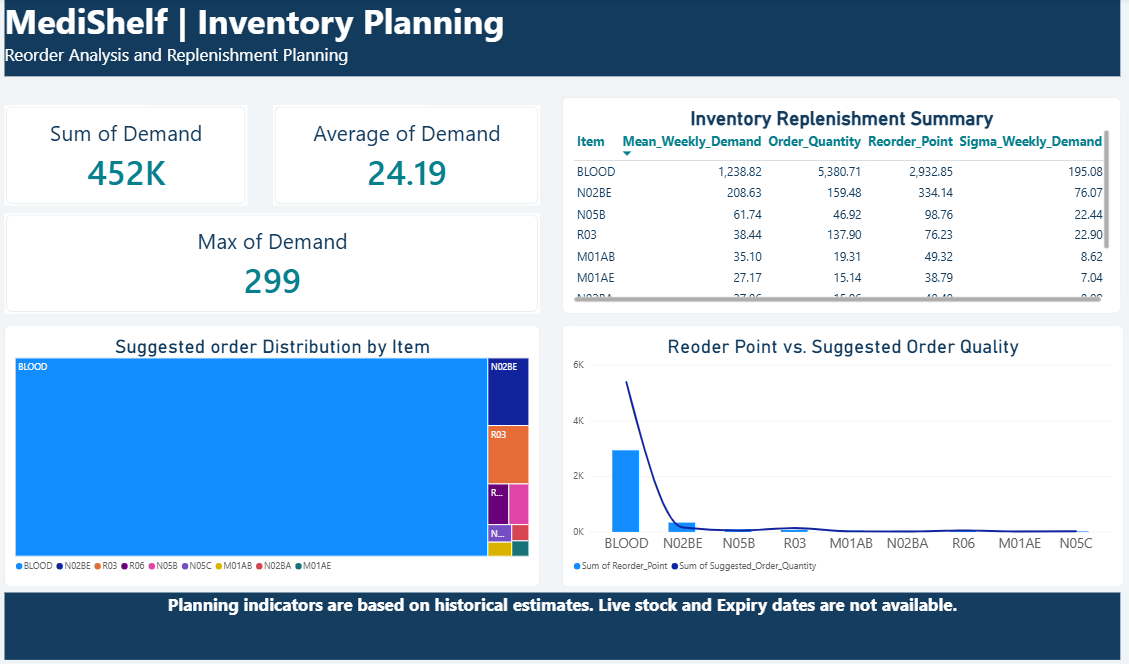

Layout of this report page (visuals, bound fields, positions):
{"tool":"powerbi","page":{"name":"Inventory","canvas":[1920,1080],"ordinal":2},"visuals":[{"type":"tableEx","title":"Inventory Replenishment Summary","fields":{"Values":["Fact_StockDecision.Item","Sum(Fact_StockDecision.Mean_Weekly_Demand)","Sum(Fact_StockDecision.Suggested_Order_Quantity)","Sum(Fact_StockDecision.Reorder_Point)","Fact_StockDecision.Sigma_Weekly_Demand"]},"box":[944.8,157.1,872.1,337.6],"z":0},{"type":"lineClusteredColumnComboChart","title":"Reoder Point vs. Suggested Order Quality","fields":{"Category":["Fact_StockDecision.Item"],"Y":["Sum(Fact_StockDecision.Reorder_Point)"],"Y2":["Sum(Fact_StockDecision.Suggested_Order_Quantity)"]},"box":[944.8,513.4,876.8,407.9],"z":1000},{"type":"treemap","title":"Suggested order Distribution by Item","fields":{"Group":["Fact_StockDecision.Item"],"Values":["Sum(Fact_StockDecision.Suggested_Order_Quantity)"]},"box":[72.7,513.4,837,407.9],"z":2000},{"type":"textbox","box":[72.7,0,1744.3,124.3],"z":3000},{"type":"cardVisual","fields":{"Data":["Sum(Fact_Demand.Demand)"]},"box":[72.7,168.8,379.8,157.1],"z":4000},{"type":"cardVisual","fields":{"Data":["Avg(Fact_Demand.Demand)"]},"box":[492.3,168.8,417.3,157.1],"z":4001},{"type":"cardVisual","fields":{"Data":["Max(Fact_Demand.Demand)"]},"box":[72.7,337.6,837,157.1],"z":4002},{"type":"textbox","box":[72.7,930.8,1744.3,105.5],"z":4003}]}

Visuals, with their boxes on the page's 1920x1080 design canvas (x1, y1, x2, y2). These are canvas units, not pixel positions in the 1129x664 screenshot, which may show the page scaled, cropped or inside an application window:
"Inventory Replenishment Summary" tableEx: {"x1": 945, "y1": 157, "x2": 1817, "y2": 495}
"Reoder Point vs. Suggested Order Quality" lineClusteredColumnComboChart: {"x1": 945, "y1": 513, "x2": 1822, "y2": 921}
"Suggested order Distribution by Item" treemap: {"x1": 73, "y1": 513, "x2": 910, "y2": 921}
textbox: {"x1": 73, "y1": 0, "x2": 1817, "y2": 124}
cardVisual - Sum(Fact_Demand.Demand): {"x1": 73, "y1": 169, "x2": 452, "y2": 326}
cardVisual - Avg(Fact_Demand.Demand): {"x1": 492, "y1": 169, "x2": 910, "y2": 326}
cardVisual - Max(Fact_Demand.Demand): {"x1": 73, "y1": 338, "x2": 910, "y2": 495}
textbox: {"x1": 73, "y1": 931, "x2": 1817, "y2": 1036}
